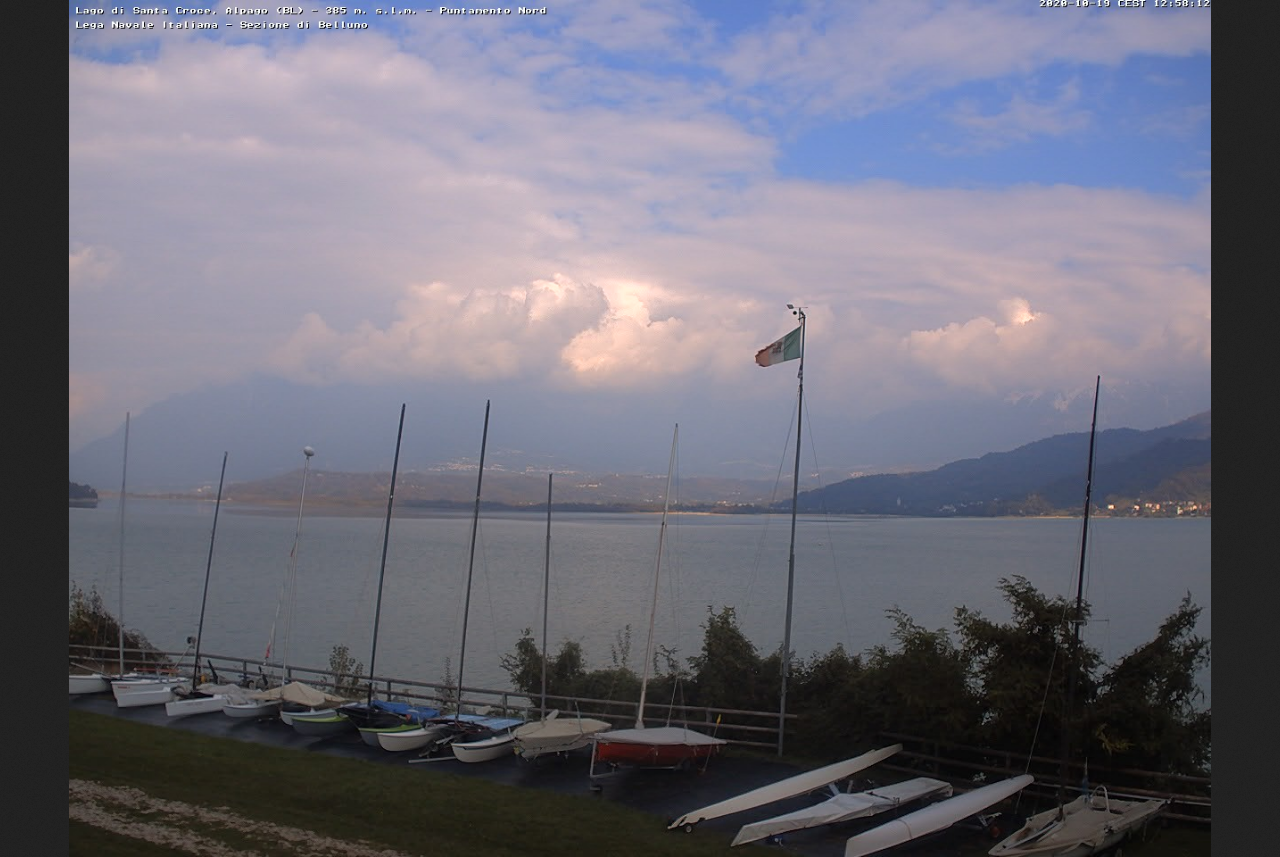maybe: (753, 326, 804, 368)
